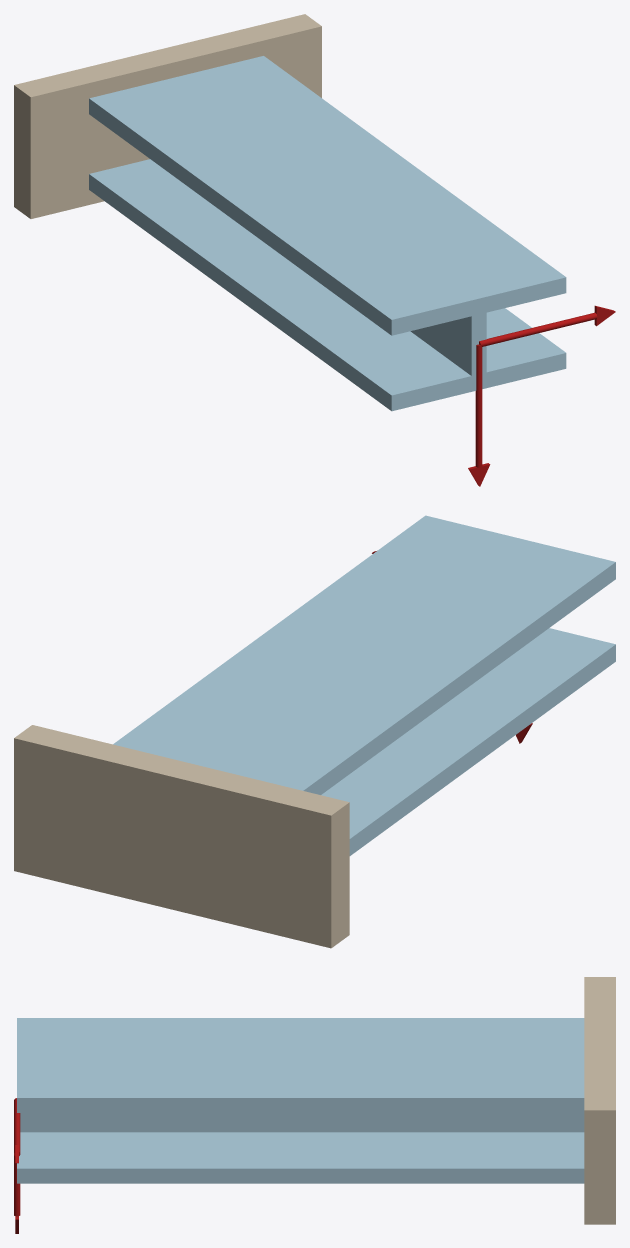
The picture shows the model from 3 angles, top to bottom: view 1: azimuth 30°, elevation 25°; view 2: azimuth 150°, elevation 25°; view 3: azimuth 270°, elevation 25°; orthographic projection. The views are drawn at different scales.
Visible parts, largest first — view 1: Problem 8.53; view 2: Problem 8.53; view 3: Problem 8.53.
Boxes of the visible parts, x1,y1,x2,y2 form: Problem 8.53: [14, 14, 615, 486]; Problem 8.53: [14, 515, 615, 948]; Problem 8.53: [14, 977, 615, 1233].
Size of the model in its own units: 0.25 by 0.1664 by 0.4775.
